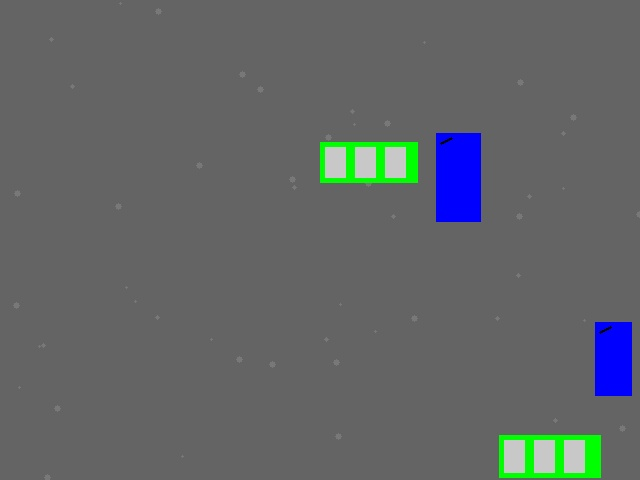bus: (499, 435, 600, 477), (320, 142, 417, 182)
motorcycle: (436, 133, 480, 221), (595, 322, 631, 395)
